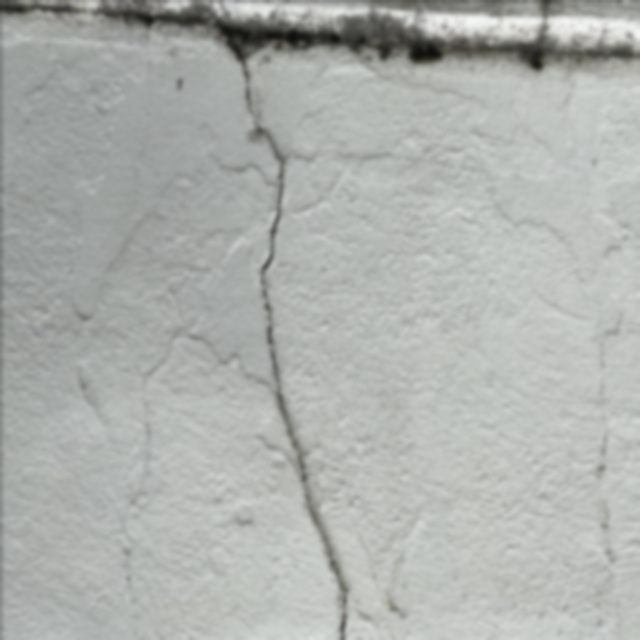SurfaceCrack: (181, 0, 382, 639)
